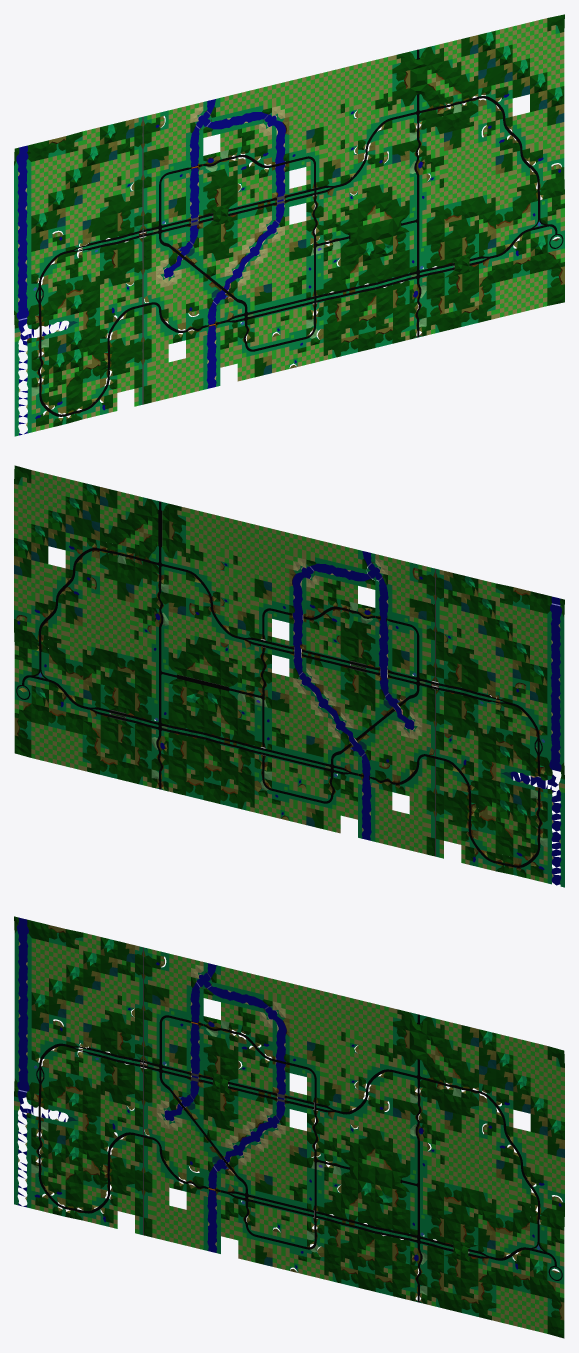
Rendered from Cape_Cod_Course_5.obj.
3 renders of one model, top to bottom at view 1: azimuth 30°, elevation 25°; view 2: azimuth 150°, elevation 25°; view 3: azimuth 330°, elevation 25°, orthographic.
Visible parts, largest first — view 1: tiles2_0, tiles2_6, tiles3_37, tiles2_5, tiles2_8, tiles3_14, tiles2_7, tiles3_50, tiles3_51, tiles2_9, tiles2_43, tiles2_3 (+33 smaller); view 2: tiles2_0, tiles2_6, tiles3_37, tiles2_5, tiles2_8, tiles3_14, tiles2_7, tiles3_50, tiles3_51, tiles2_9, tiles2_43, tiles2_3 (+33 smaller); view 3: tiles2_0, tiles2_6, tiles3_37, tiles2_5, tiles2_8, tiles3_14, tiles2_7, tiles3_50, tiles2_9, tiles3_51, tiles2_43, tiles2_3 (+33 smaller).
Boxes of the visible parts, x1,y1,x2,y2 form: tiles2_0: [31, 18, 564, 402]; tiles2_6: [48, 14, 564, 374]; tiles3_37: [31, 35, 564, 377]; tiles2_5: [31, 111, 564, 405]; tiles2_8: [48, 70, 564, 383]; tiles3_14: [14, 107, 289, 436]; tiles2_7: [31, 30, 564, 373]; tiles3_50: [31, 102, 529, 401]; tiles3_51: [31, 98, 547, 419]; tiles2_9: [48, 61, 564, 387]; tiles2_43: [151, 99, 289, 294]; tiles2_3: [49, 92, 564, 391]; tiles2_0: [14, 470, 547, 854]; tiles2_6: [14, 465, 529, 826]; tiles3_37: [14, 487, 547, 829]; tiles2_5: [14, 562, 547, 856]; tiles2_8: [14, 521, 530, 835]; tiles3_14: [289, 559, 564, 887]; tiles2_7: [14, 482, 547, 824]; tiles3_50: [48, 554, 547, 853]; tiles3_51: [31, 550, 547, 871]; tiles2_9: [14, 513, 530, 838]; tiles2_43: [289, 551, 426, 746]; tiles2_3: [14, 544, 530, 842]; tiles2_0: [31, 932, 564, 1333]; tiles2_6: [49, 929, 564, 1321]; tiles3_37: [31, 941, 564, 1266]; tiles2_5: [31, 920, 564, 1338]; tiles2_8: [48, 925, 564, 1320]; tiles3_14: [14, 934, 289, 1253]; tiles2_7: [31, 937, 564, 1280]; tiles3_50: [31, 1028, 530, 1253]; tiles2_9: [48, 1035, 564, 1302]; tiles3_51: [31, 1032, 547, 1271]; tiles2_43: [152, 958, 289, 1172]; tiles2_3: [48, 959, 564, 1248].
Size of the model in its own units: 131 by 65.54 by 1.31.
